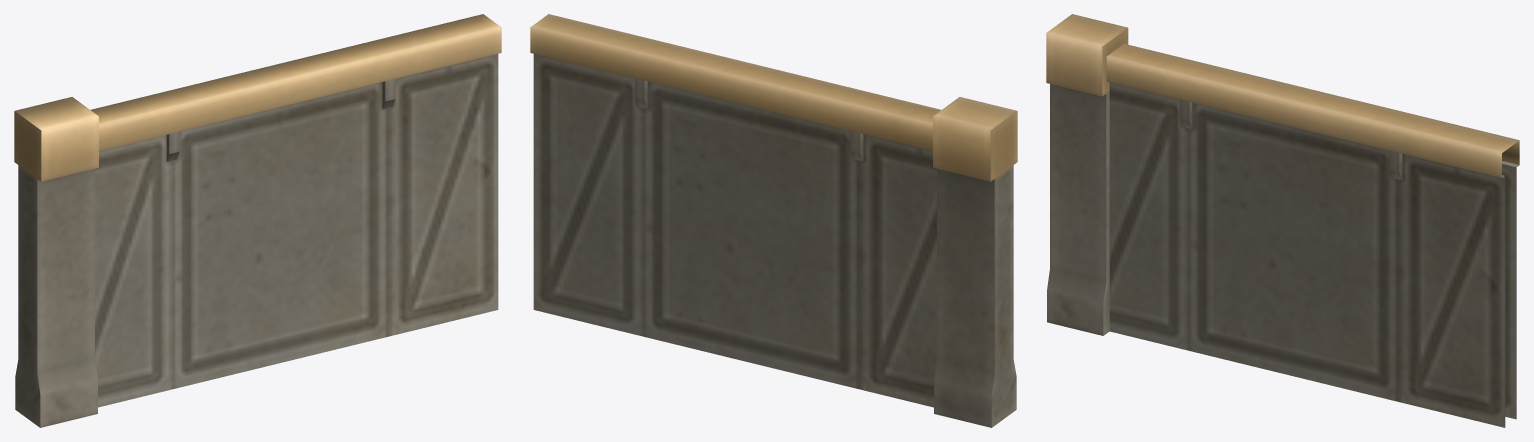
Rendered from Wall_High.FBX.
The picture shows the model from 3 angles, left to right: view 1: azimuth 30°, elevation 25°; view 2: azimuth 150°, elevation 25°; view 3: azimuth 330°, elevation 25°; orthographic projection. The views are drawn at different scales.
Parts seen in each view (by area): view 1: Wall_High; view 2: Wall_High; view 3: Wall_High.
Boxes of the visible parts, box(x1,y1,x2,y2) form: Wall_High: box(14, 14, 501, 427); Wall_High: box(530, 14, 1017, 427); Wall_High: box(1046, 14, 1519, 427).
Bounding box in the file's own units: 853 × 523 × 85.18.
